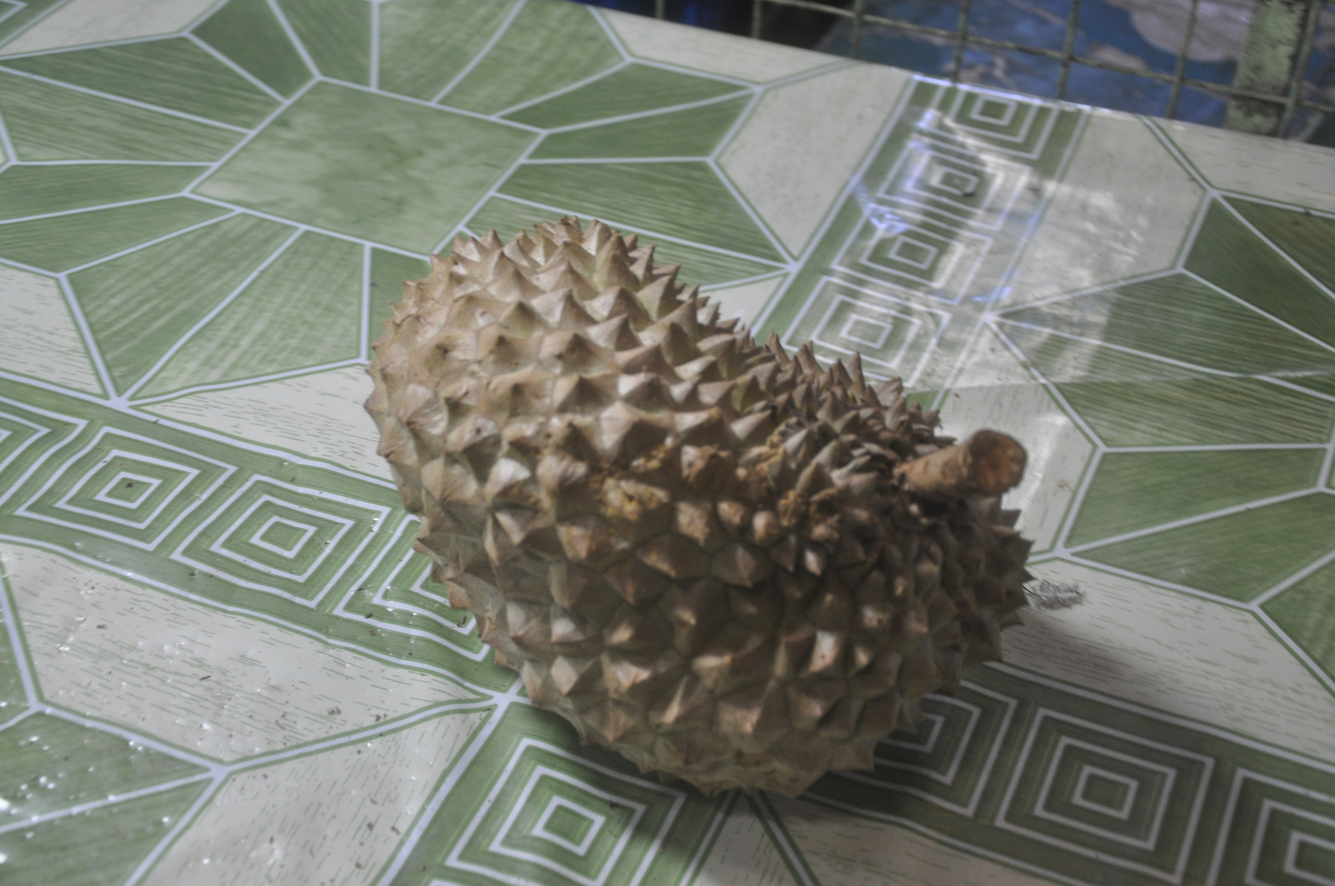mature: (366, 218, 1031, 796)
